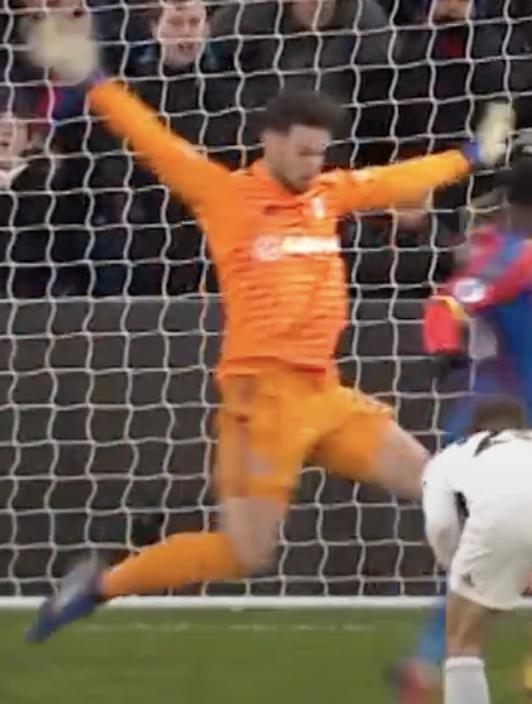goalkeeper: (15, 3, 511, 660)
